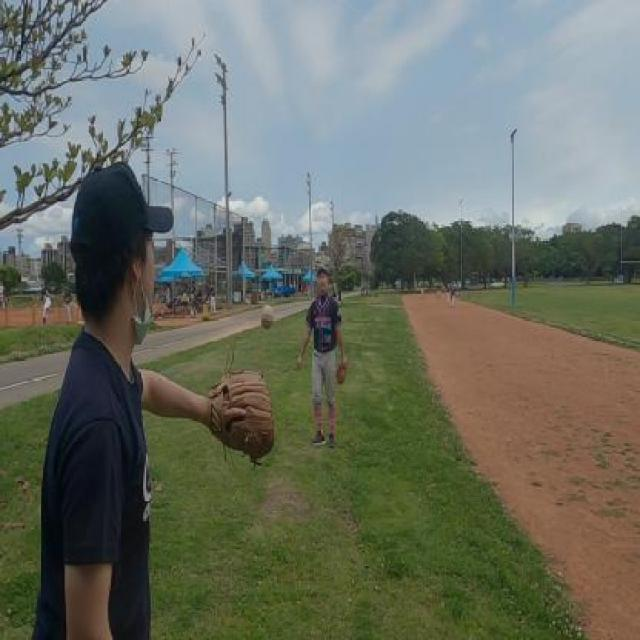baseball: (259, 302, 275, 330)
